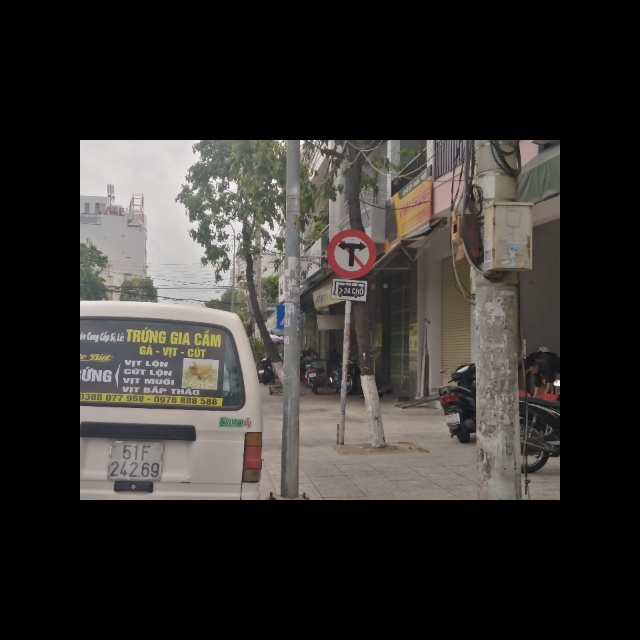Cấm rẽ trái và rẽ phải: (326, 229, 376, 278)
